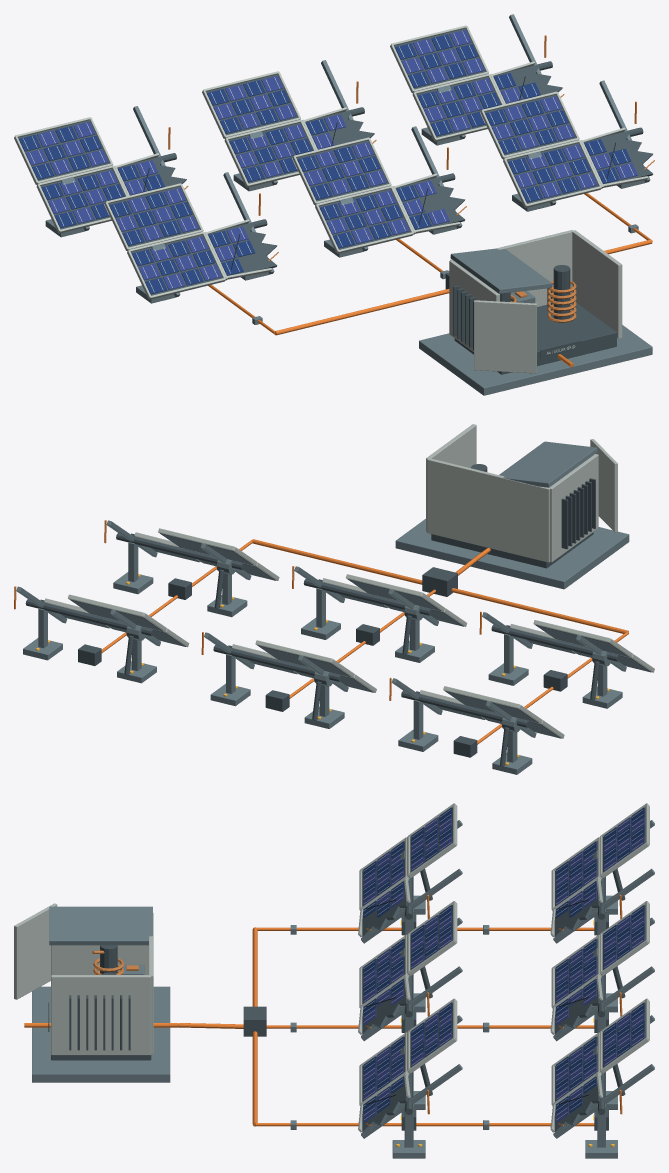
File: solar_power_complex_d2.glb
3 views of the same model, one above another, from view 1: azimuth 30°, elevation 25°; view 2: azimuth 150°, elevation 25°; view 3: azimuth 270°, elevation 25° (orthographic). The views are drawn at different scales.
Parts seen in each view (by area): view 1: POWER_STATION_FOUNDATION, HINGED_TORN_DOOR, INVERTER_ARMORED_SIDE_001, INVERTER_CHASSIS, SHEARED_ROOF_REMNANT, INVERTER_REAR_ARMOR, INVERTER_ARMORED_SIDE, JAGGED_PV_BACKING_001, JAGGED_PV_BACKING, JAGGED_PV_BACKING_002, COLLECTION_CABLE_TRUNK, PV_BACKING_003 (+15 smaller); view 2: INVERTER_REAR_ARMOR, POWER_STATION_FOUNDATION, SHEARED_ROOF_REMNANT, INVERTER_ARMORED_SIDE, COLLECTION_CABLE_TRUNK, HINGED_TORN_DOOR, INVERTER_ARMORED_SIDE_001, INVERTER_CHASSIS, ARRAY_COMBINER_BOX, TRACKING_AXLE, TRACKING_AXLE_005, TRACKING_AXLE_002 (+15 smaller); view 3: INVERTER_ARMORED_SIDE_001, POWER_STATION_FOUNDATION, SHEARED_ROOF_REMNANT, HINGED_TORN_DOOR, INVERTER_ARMORED_SIDE, ARRAY_COLLECTION_CABLE_002, COLLECTION_CABLE_TRUNK, ARRAY_COLLECTION_CABLE, ARRAY_COLLECTION_CABLE_001, JAGGED_PV_BACKING_003, JAGGED_PV_BACKING_005, JAGGED_PV_BACKING_004 (+13 smaller).
Boxes of the visible parts, <box> form: POWER_STATION_FOUNDATION: <box>419,325,652,395</box>; HINGED_TORN_DOOR: <box>474,300,536,373</box>; INVERTER_ARMORED_SIDE_001: <box>572,230,622,338</box>; INVERTER_CHASSIS: <box>454,302,616,374</box>; SHEARED_ROOF_REMNANT: <box>450,248,552,293</box>; INVERTER_REAR_ARMOR: <box>450,230,573,306</box>; INVERTER_ARMORED_SIDE: <box>449,260,499,351</box>; JAGGED_PV_BACKING_001: <box>396,176,465,229</box>; JAGGED_PV_BACKING: <box>208,222,277,275</box>; JAGGED_PV_BACKING_002: <box>584,130,652,184</box>; COLLECTION_CABLE_TRUNK: <box>275,239,652,335</box>; PV_BACKING_003: <box>296,140,387,201</box>; INVERTER_REAR_ARMOR: <box>427,458,549,562</box>; POWER_STATION_FOUNDATION: <box>395,519,629,589</box>; SHEARED_ROOF_REMNANT: <box>499,441,597,487</box>; INVERTER_ARMORED_SIDE: <box>549,454,598,562</box>; COLLECTION_CABLE_TRUNK: <box>252,539,628,633</box>; HINGED_TORN_DOOR: <box>590,439,617,532</box>; INVERTER_ARMORED_SIDE_001: <box>426,424,476,531</box>; INVERTER_CHASSIS: <box>431,532,593,568</box>; ARRAY_COMBINER_BOX: <box>422,567,457,596</box>; TRACKING_AXLE: <box>491,624,619,661</box>; TRACKING_AXLE_005: <box>25,599,153,635</box>; TRACKING_AXLE_002: <box>116,533,244,569</box>; INVERTER_ARMORED_SIDE_001: <box>51,975,151,1055</box>; POWER_STATION_FOUNDATION: <box>32,986,170,1082</box>; SHEARED_ROOF_REMNANT: <box>49,906,152,945</box>; HINGED_TORN_DOOR: <box>14,903,57,999</box>; INVERTER_ARMORED_SIDE: <box>51,945,148,974</box>; ARRAY_COLLECTION_CABLE_002: <box>255,1123,594,1126</box>; COLLECTION_CABLE_TRUNK: <box>252,927,257,1126</box>; ARRAY_COLLECTION_CABLE: <box>257,927,594,930</box>; ARRAY_COLLECTION_CABLE_001: <box>266,1025,594,1028</box>; JAGGED_PV_BACKING_003: <box>554,883,600,939</box>; JAGGED_PV_BACKING_005: <box>554,1079,600,1134</box>; JAGGED_PV_BACKING_004: <box>554,981,600,1036</box>.
Bounding box in the file's own units: 16.57 × 2.89 × 16.65.
